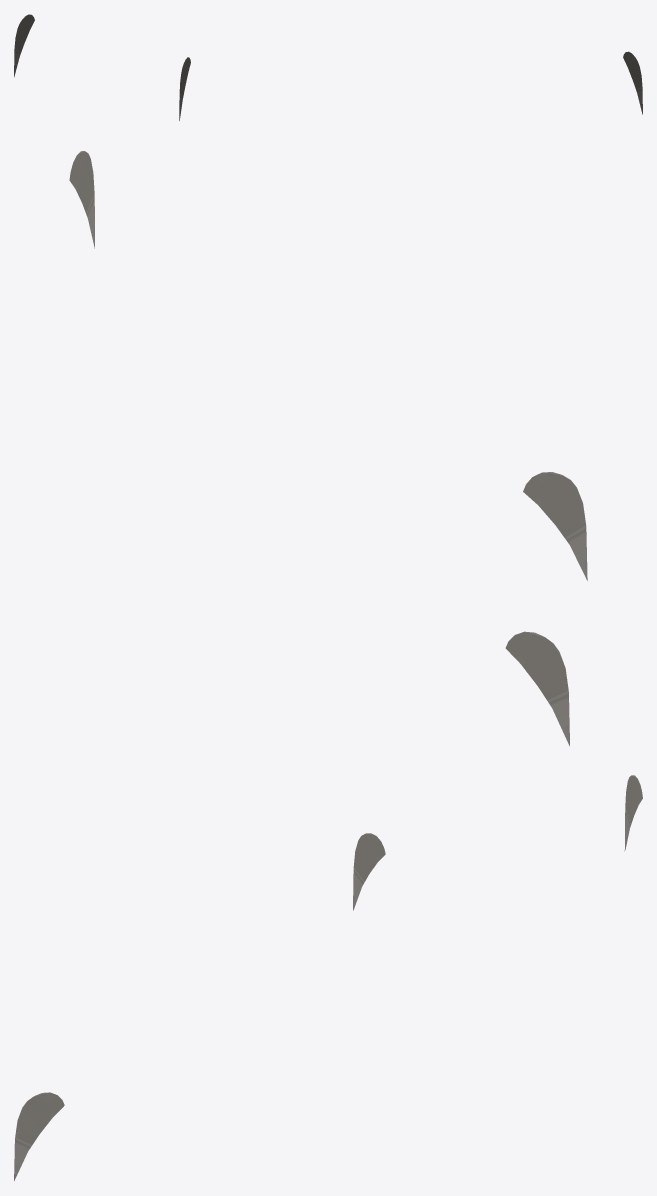
Rendered from pref_sm_4v4beachtech_bk_topblock_R01d_lv1.fbx.
3 views of the same model, one above another, from view 1: azimuth 30°, elevation 25°; view 2: azimuth 150°, elevation 25°; view 3: azimuth 270°, elevation 25° (orthographic). The views are drawn at different scales.
Parts seen in each view (by area): view 1: pref_sm_4v4beachtech_bk_topblock_R01d_lv1; view 2: pref_sm_4v4beachtech_bk_topblock_R01d_lv1; view 3: pref_sm_4v4beachtech_bk_topblock_R01d_lv1.
Boxes of the visible parts, <box> form: pref_sm_4v4beachtech_bk_topblock_R01d_lv1: <box>14,14,642,120</box>; pref_sm_4v4beachtech_bk_topblock_R01d_lv1: <box>69,151,587,746</box>; pref_sm_4v4beachtech_bk_topblock_R01d_lv1: <box>14,775,642,1180</box>.
Size of the model in its own units: 28.04 by 3.46 by 22.58.
